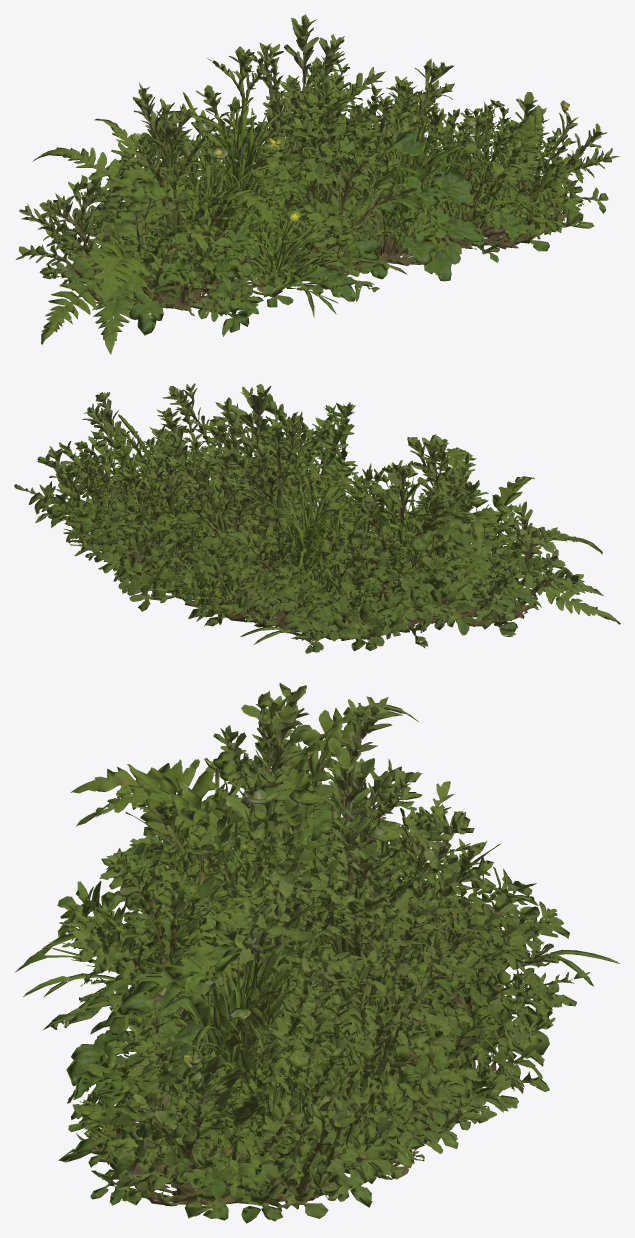
The model's file is pilot_shrub.glb.
The picture shows the model from 3 angles, top to bottom: view 1: azimuth 30°, elevation 25°; view 2: azimuth 150°, elevation 25°; view 3: azimuth 270°, elevation 25°; orthographic projection. The views are drawn at different scales.
Parts seen in each view (by area): view 1: Mesh_0; view 2: Mesh_0; view 3: Mesh_0.
Part boxes in pixels (x1=…): Mesh_0: x1=16, y1=14, x2=619, y2=354; Mesh_0: x1=14, y1=383, x2=620, y2=653; Mesh_0: x1=14, y1=683, x2=620, y2=1223.
Size of the model in its own units: 1.88 by 0.6602 by 1.15.
1 material, 1 textured.
